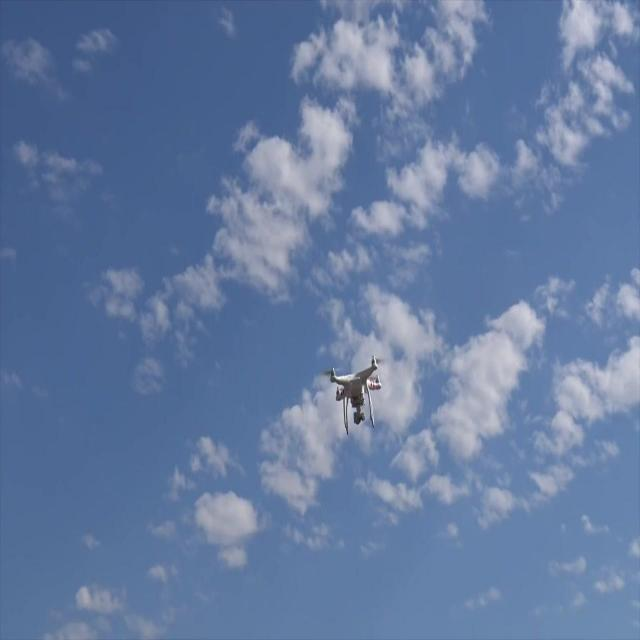UAV: (324, 356, 382, 436)
